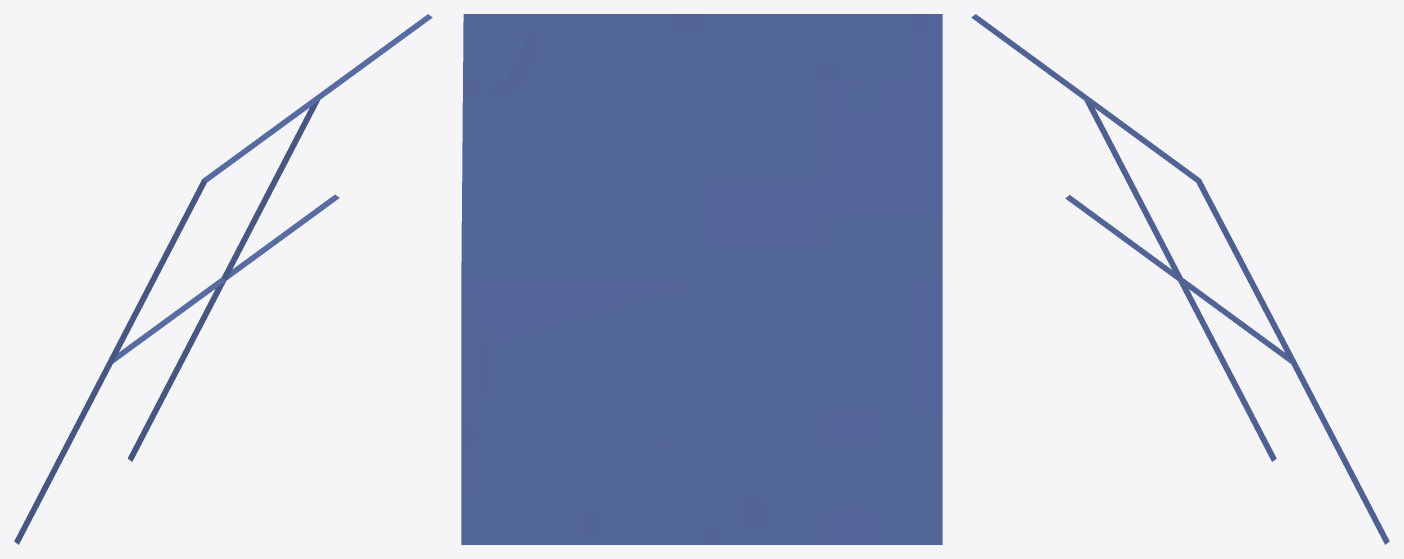
3 renders of one model, left to right at view 1: azimuth 30°, elevation 25°; view 2: azimuth 150°, elevation 25°; view 3: azimuth 270°, elevation 25°, orthographic. The views are drawn at different scales.
Size of the model in its own units: 19692 by 17762 by 16445.
Materials: 1 (1 with a texture image).
